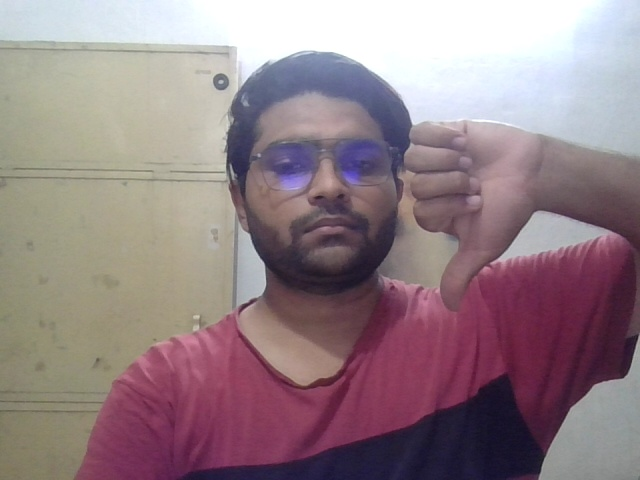ThumbsDown: (404, 122, 528, 313)
